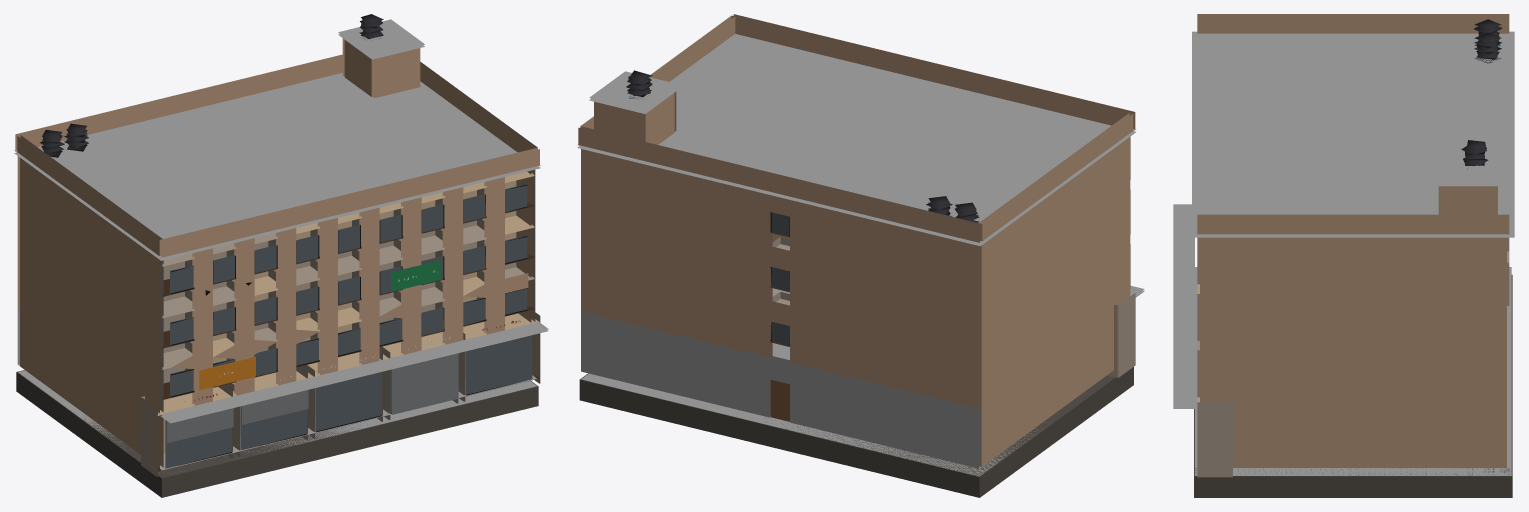
File: commercial_24x16_4_far.glb
The picture shows the model from 3 angles, left to right: view 1: azimuth 30°, elevation 25°; view 2: azimuth 150°, elevation 25°; view 3: azimuth 270°, elevation 25°; orthographic projection. The views are drawn at different scales.
Parts seen in each view (by area): view 1: commercial_24x16_4; view 2: commercial_24x16_4; view 3: commercial_24x16_4.
Boxes of the visible parts, x1,y1,x2,y2 form: commercial_24x16_4: [14, 14, 548, 497]; commercial_24x16_4: [577, 14, 1144, 497]; commercial_24x16_4: [1173, 14, 1514, 497].
Size of the model in its own units: 24.5 by 18.5 by 17.25.
